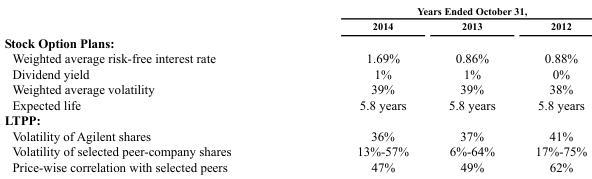table: (3, 4, 586, 173)
table column: (3, 4, 293, 173), (293, 4, 427, 173), (427, 4, 514, 173), (514, 4, 586, 173)
table column header: (3, 4, 586, 33)
table projected row header: (3, 33, 586, 50), (3, 112, 586, 127)
table row: (3, 33, 586, 50), (3, 17, 586, 33), (3, 80, 586, 96), (3, 96, 586, 112), (3, 142, 586, 158), (3, 50, 586, 65), (3, 65, 586, 80), (3, 112, 586, 127), (3, 127, 586, 142), (3, 158, 586, 173), (3, 4, 586, 17)
table spanning cell: (293, 4, 586, 17)
